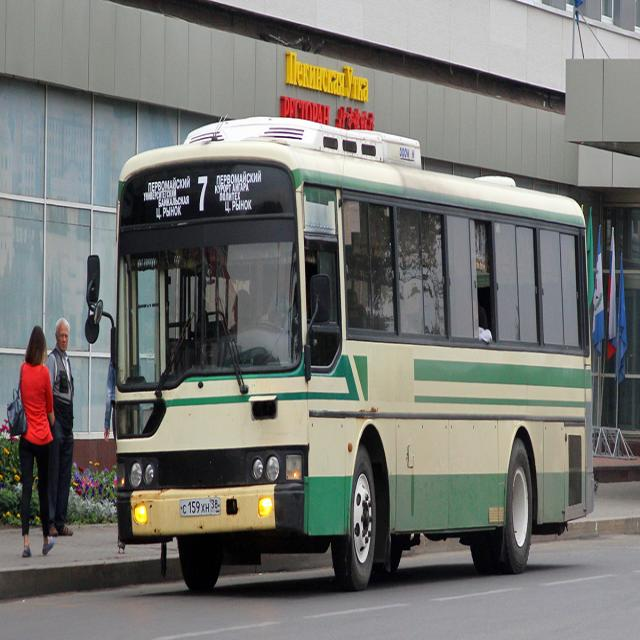number-of-bus: (194, 169, 214, 220)
